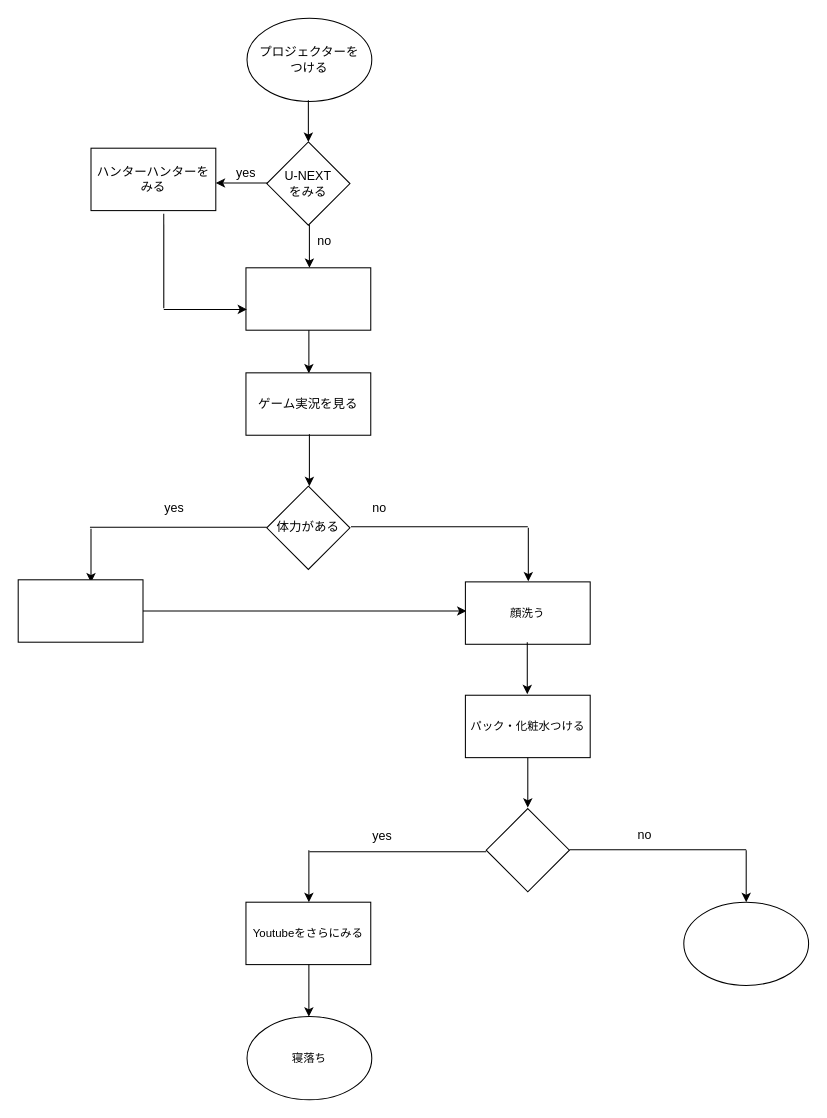
Image size: 827x1118. Some labels were removed from this diagram. The centre of each missing label's shape, as x and y in pixels:
Youtubeをみる: the point at 308,298
さらに体力がある: the point at 527,850
ゲームする: the point at 80,610
就寝: the point at 746,943
